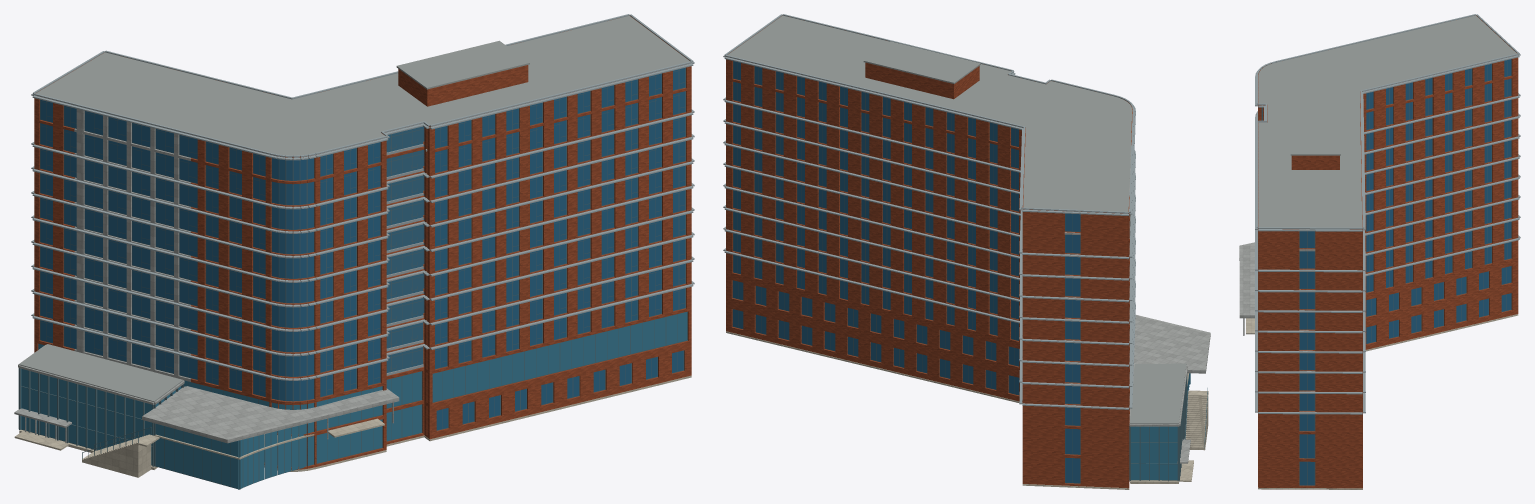
The picture shows the model from 3 angles, left to right: view 1: azimuth 30°, elevation 25°; view 2: azimuth 150°, elevation 25°; view 3: azimuth 270°, elevation 25°; orthographic projection. The views are drawn at different scales.
Parts seen in each view (by area): view 1: illsin__glass, illsin__brick, illsin__roof, illsin__frame, illsin__metalcap, illsin__hallglass, illsin__silver, illsin__coreglass, illsin__stair-hall, illsin__stone; view 2: illsin__brick, illsin__glass, illsin__roof, illsin__metalcap, illsin__frame, illsin__silver, illsin__hallglass, illsin__stone, illsin__stair-hall; view 3: illsin__brick, illsin__roof, illsin__glass, illsin__metalcap, illsin__frame, illsin__silver, illsin__stone.
Part boxes in pixels (x1,y1,x2,y2): illsin__glass: (40, 68, 685, 430); illsin__brick: (34, 16, 691, 469); illsin__roof: (19, 16, 689, 402); illsin__frame: (18, 67, 687, 489); illsin__metalcap: (31, 14, 694, 380); illsin__hallglass: (21, 311, 687, 489); illsin__silver: (14, 109, 427, 443); illsin__coreglass: (386, 126, 422, 372); illsin__stair-hall: (82, 434, 151, 477); illsin__stone: (19, 375, 691, 471); illsin__brick: (726, 16, 1132, 488); illsin__glass: (733, 61, 1080, 483); illsin__roof: (727, 15, 1186, 424); illsin__metalcap: (723, 14, 1135, 409); illsin__frame: (732, 61, 1207, 483); illsin__silver: (1064, 145, 1210, 463); illsin__hallglass: (1131, 373, 1190, 479); illsin__stone: (726, 331, 1208, 489); illsin__stair-hall: (1185, 394, 1208, 450); illsin__brick: (1258, 15, 1518, 488); illsin__roof: (1258, 15, 1516, 227); illsin__glass: (1300, 59, 1511, 485); illsin__metalcap: (1255, 14, 1520, 414); illsin__frame: (1261, 59, 1511, 485); illsin__silver: (1239, 105, 1315, 412); illsin__stone: (1258, 314, 1518, 489).
Size of the model in its own units: 79.87 by 44.42 by 40.84.
9 materials, 3 textured.
